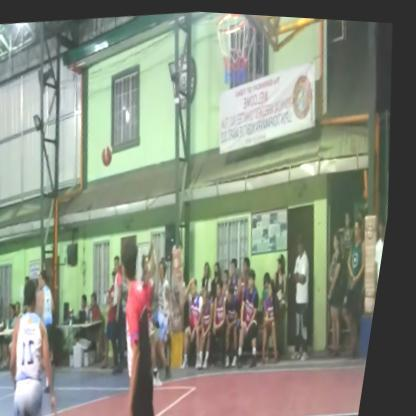basketball: (101, 138, 121, 170)
rim: (204, 10, 270, 102)
